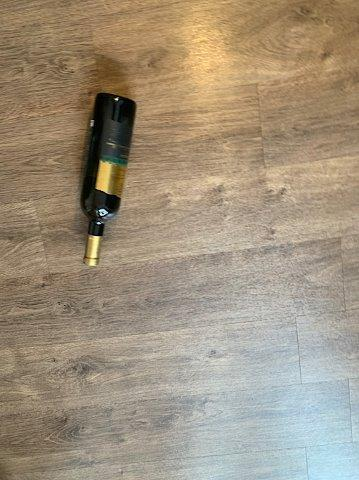botolkaca: (80, 94, 137, 266)
